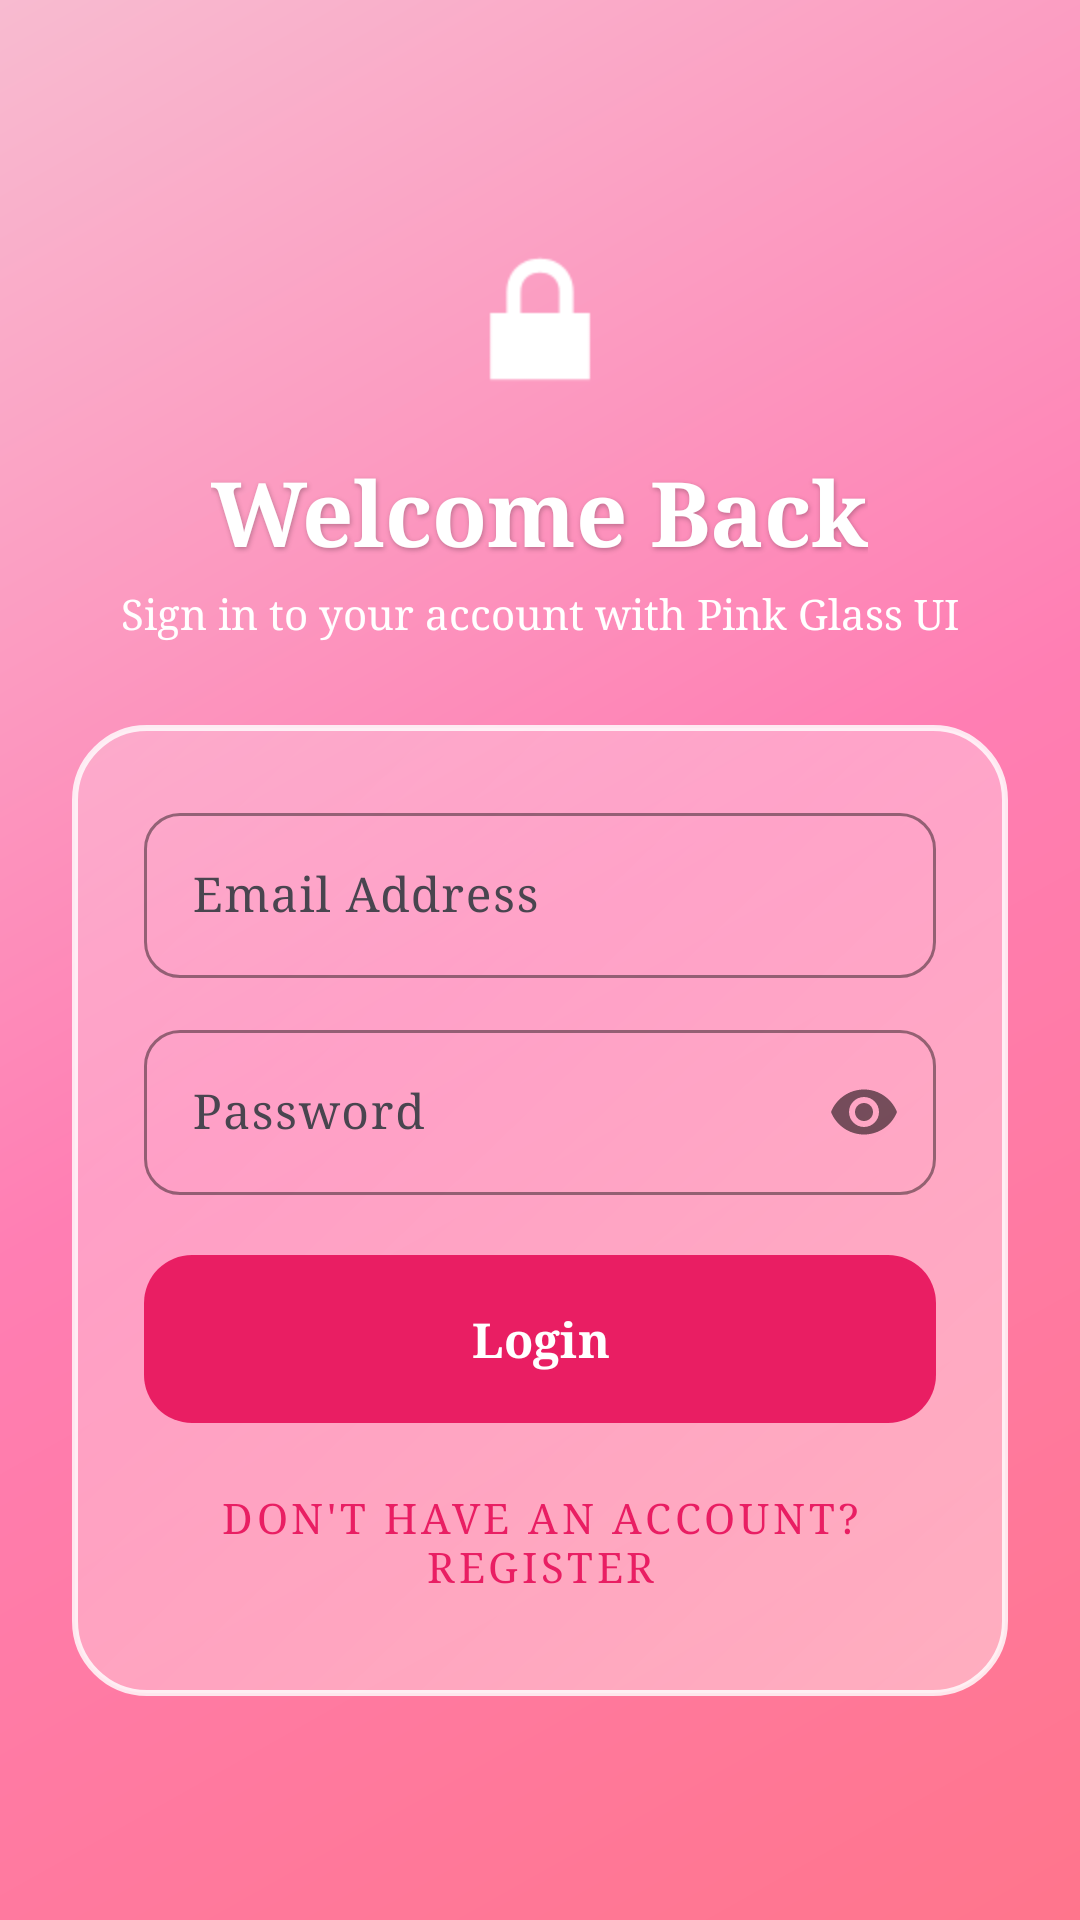

Icon click points for this 1080 x 1920 phone screenshot, format [x,y]:
Login Icon: [539,319]
